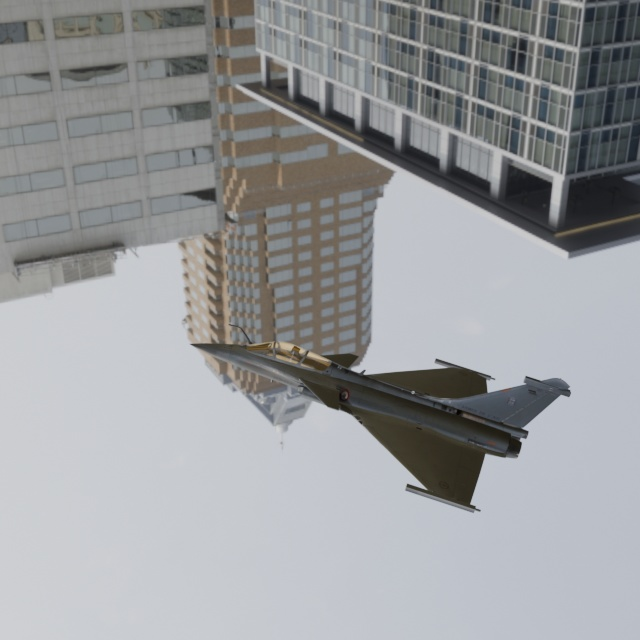dassault_rafale: (144, 231, 576, 544)
